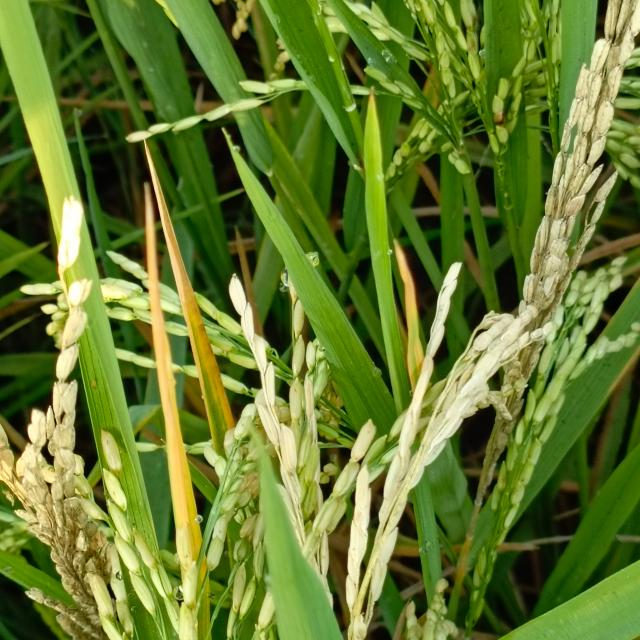Brown spot: (138, 138, 230, 542), (387, 235, 429, 384)
insects: (485, 2, 516, 63), (600, 355, 616, 371), (523, 152, 535, 163), (580, 30, 592, 41), (573, 56, 586, 66), (348, 141, 358, 152), (558, 417, 568, 428), (128, 520, 138, 530)
